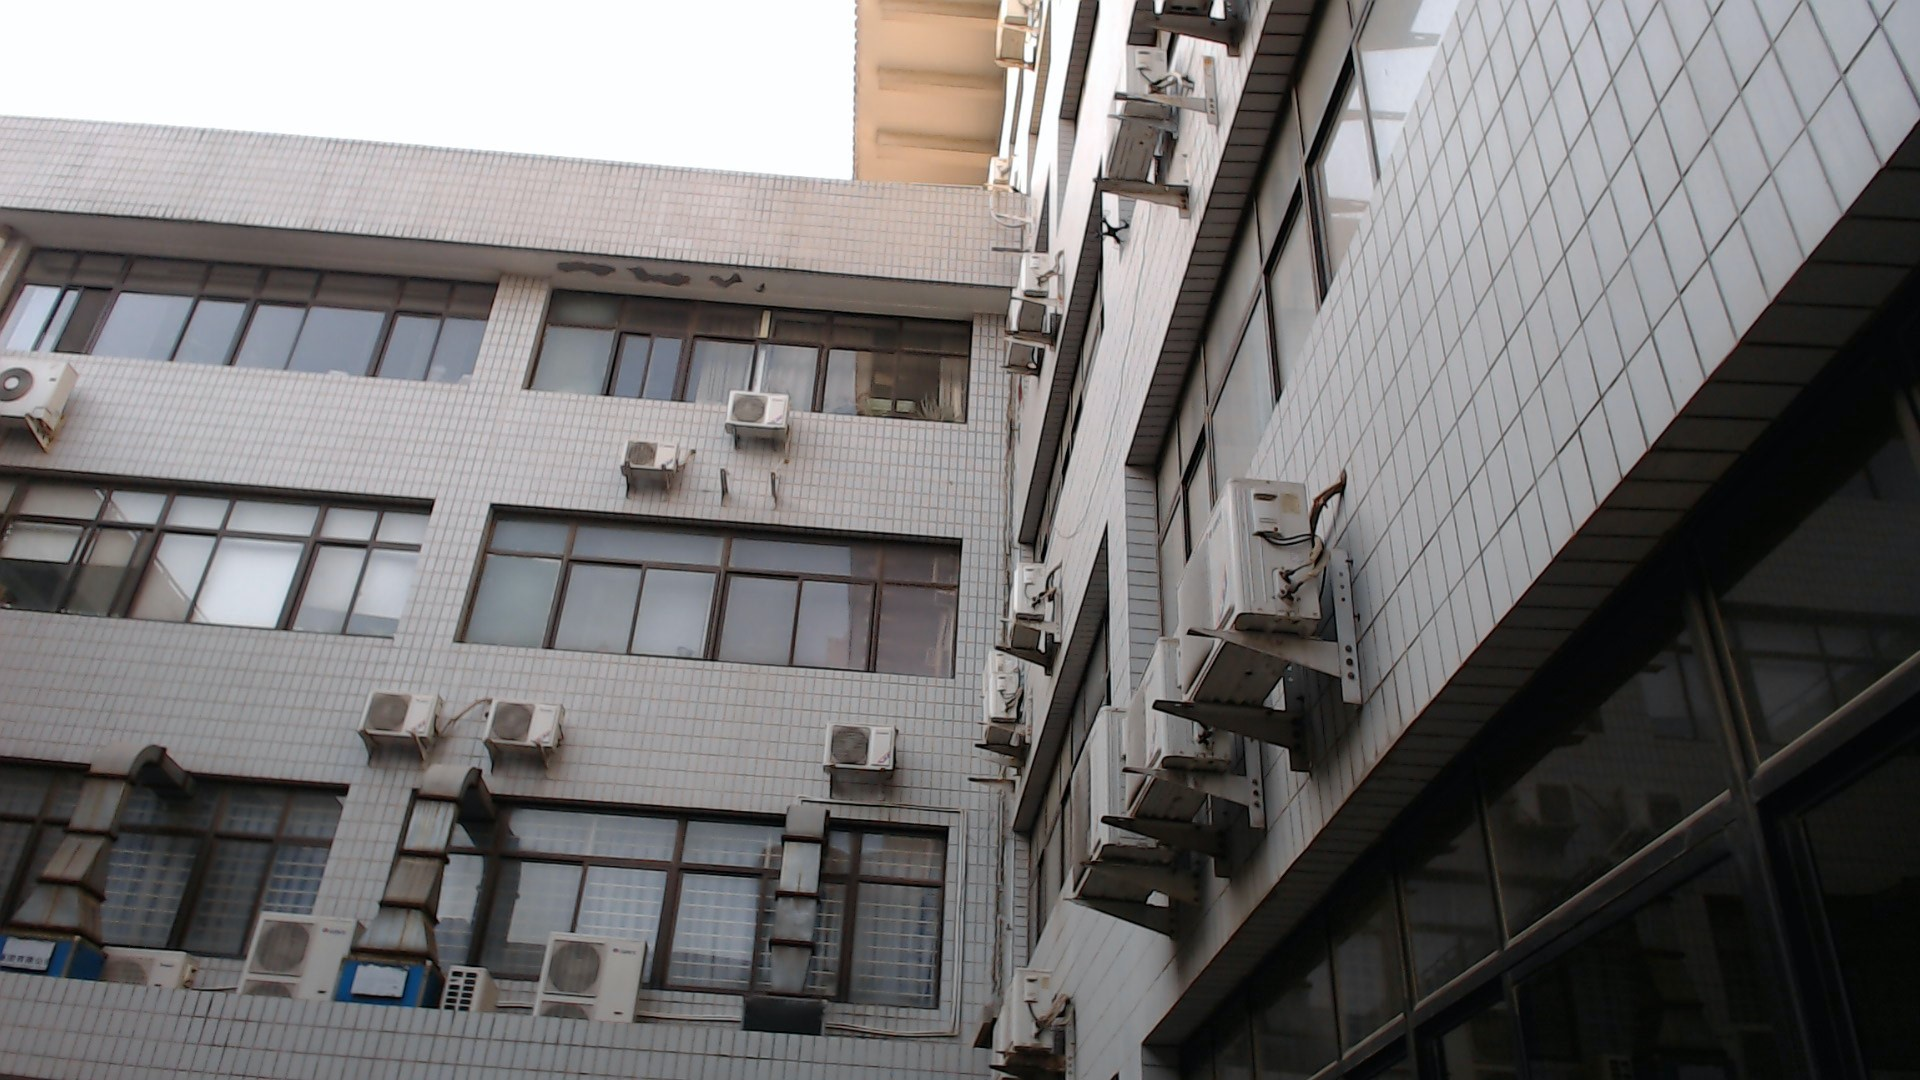drone: (1077, 202, 1150, 264)
